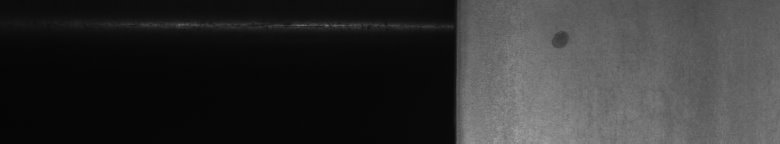fi: (548, 28, 569, 52)
